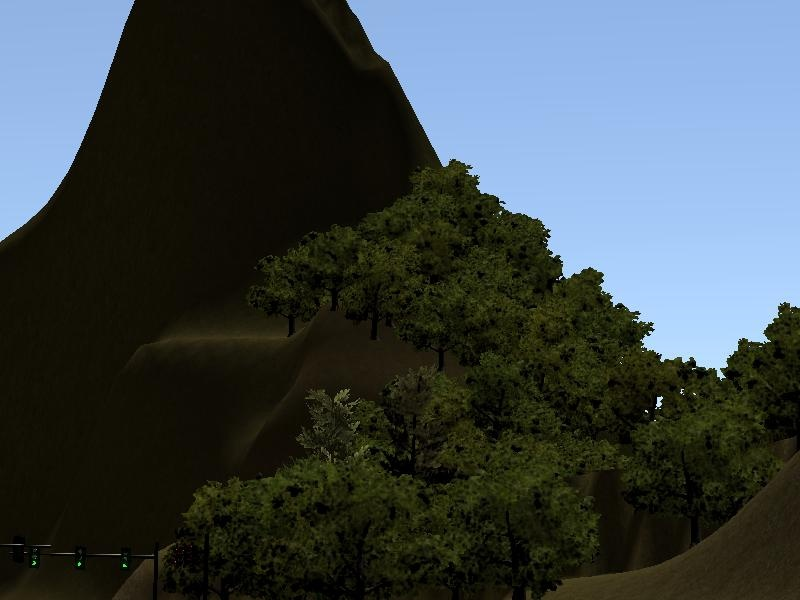GREEN: (25, 541, 45, 575), (117, 540, 134, 576), (71, 543, 88, 578)
